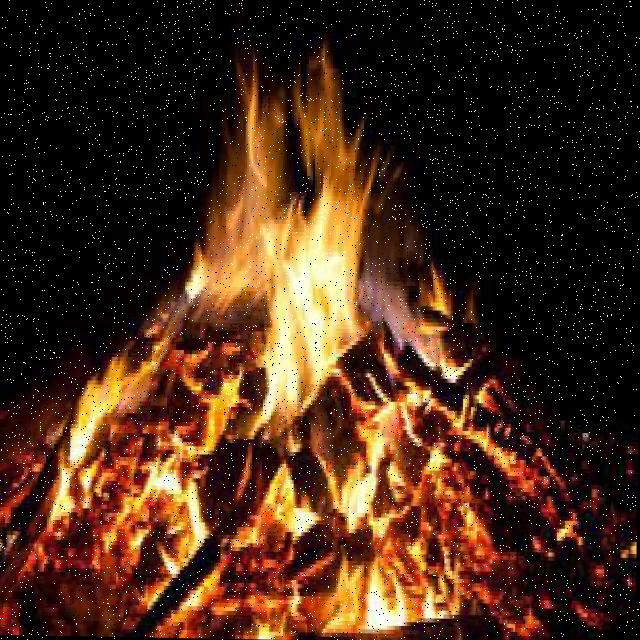fire: (14, 45, 625, 640)
